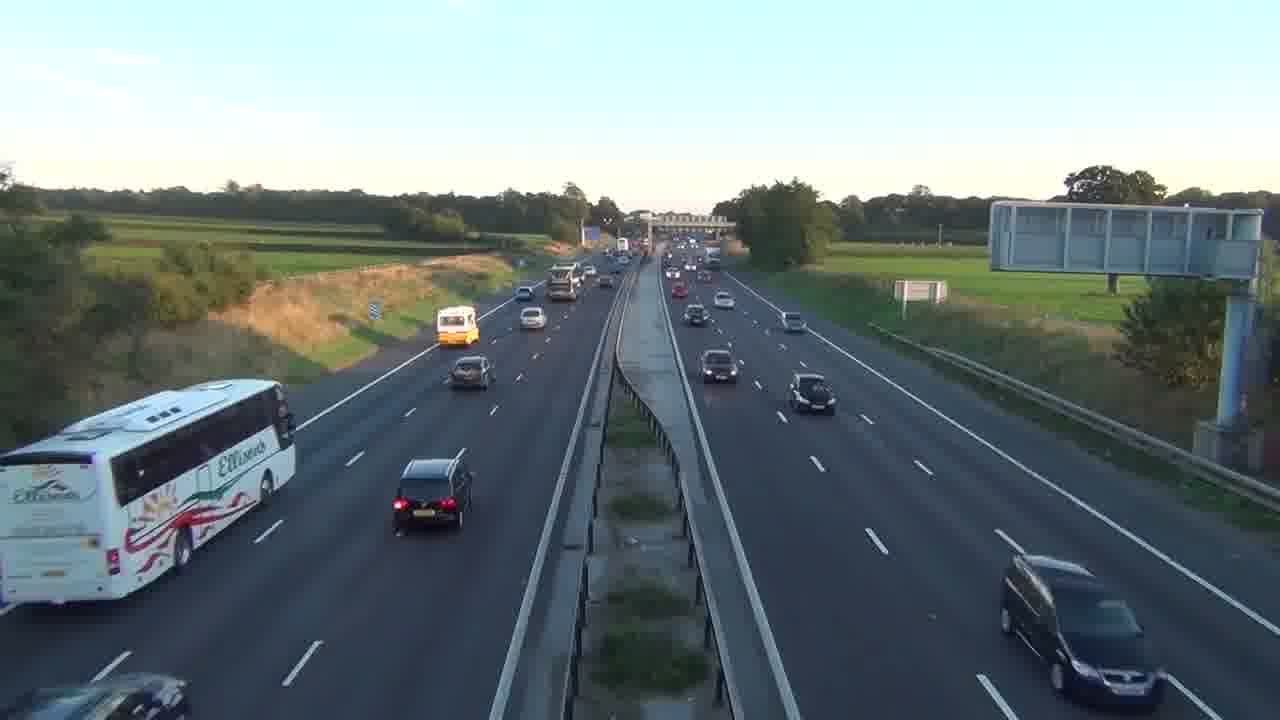bus: (1, 375, 297, 613), (435, 304, 479, 347)
car: (390, 448, 474, 536), (788, 371, 837, 414), (699, 348, 742, 383), (682, 304, 710, 327), (520, 306, 546, 330), (713, 290, 735, 309)
truck: (998, 549, 1162, 708)
